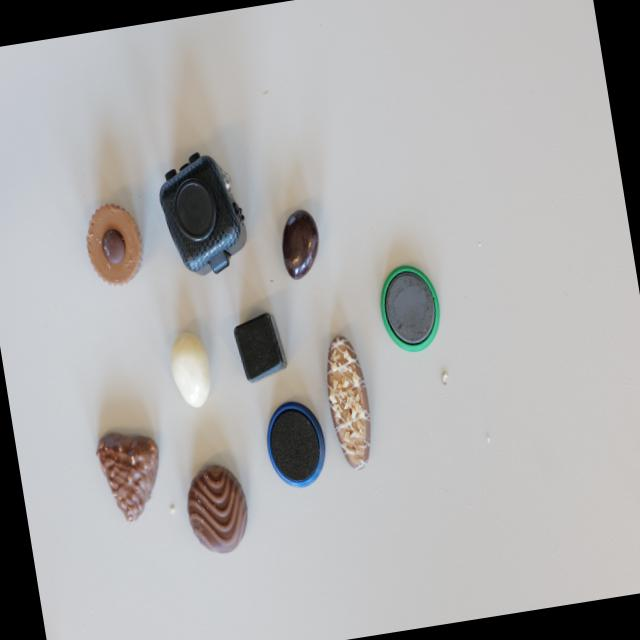Amandina: (321, 333, 376, 474)
Jelly_Black: (275, 209, 324, 282)
Jelly_White: (165, 328, 214, 412)
Noblesse: (81, 198, 147, 290)
Noir_authentique: (181, 460, 254, 560)
Triangolo: (96, 424, 169, 528)
